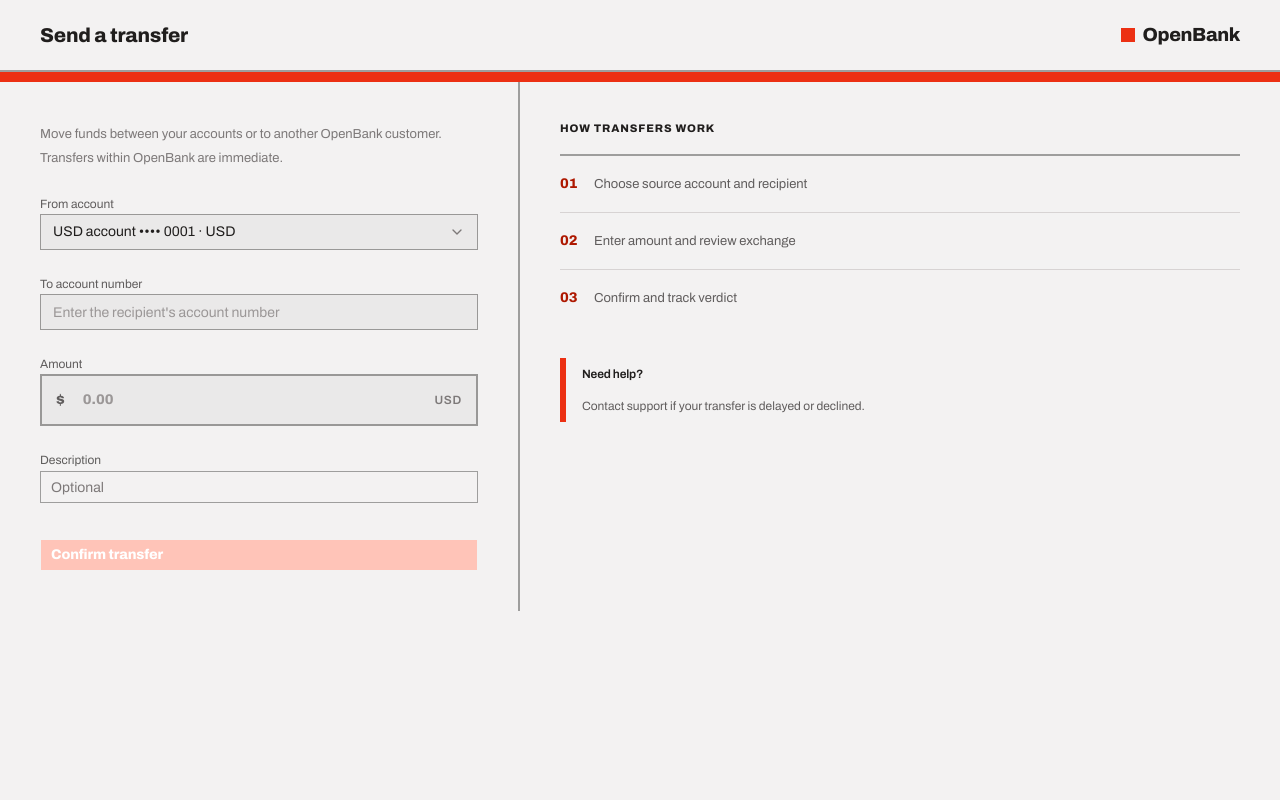
Test: TransferPageScreen workspace › Try again dismisses the error modal
Expected: the dropdown named "From account" is shown, [40,214,478,250]
In the field with placeholder "Enter the recipient's account number": (259, 312) [40,294,478,330], type "7723490011"
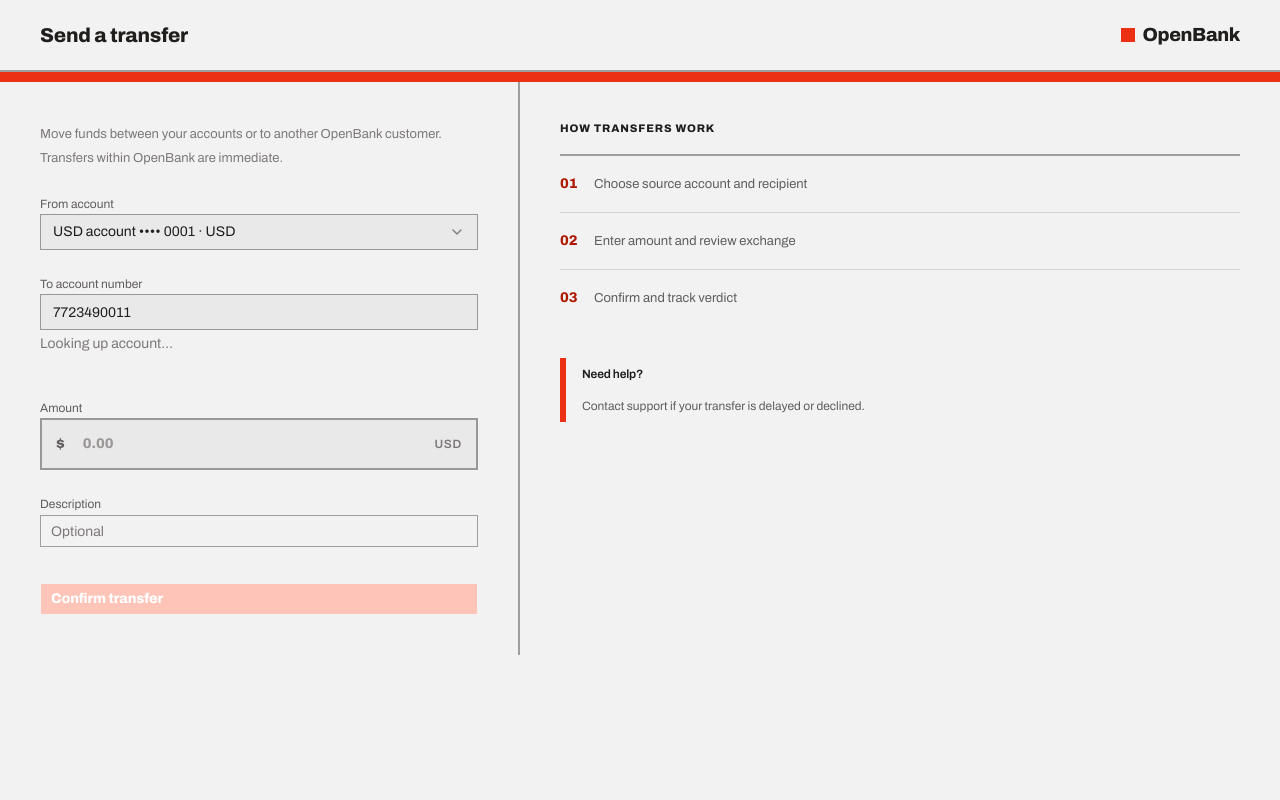
In the field with placeholder "0.00": (250, 444) [73,420,426,468], type "5.00"
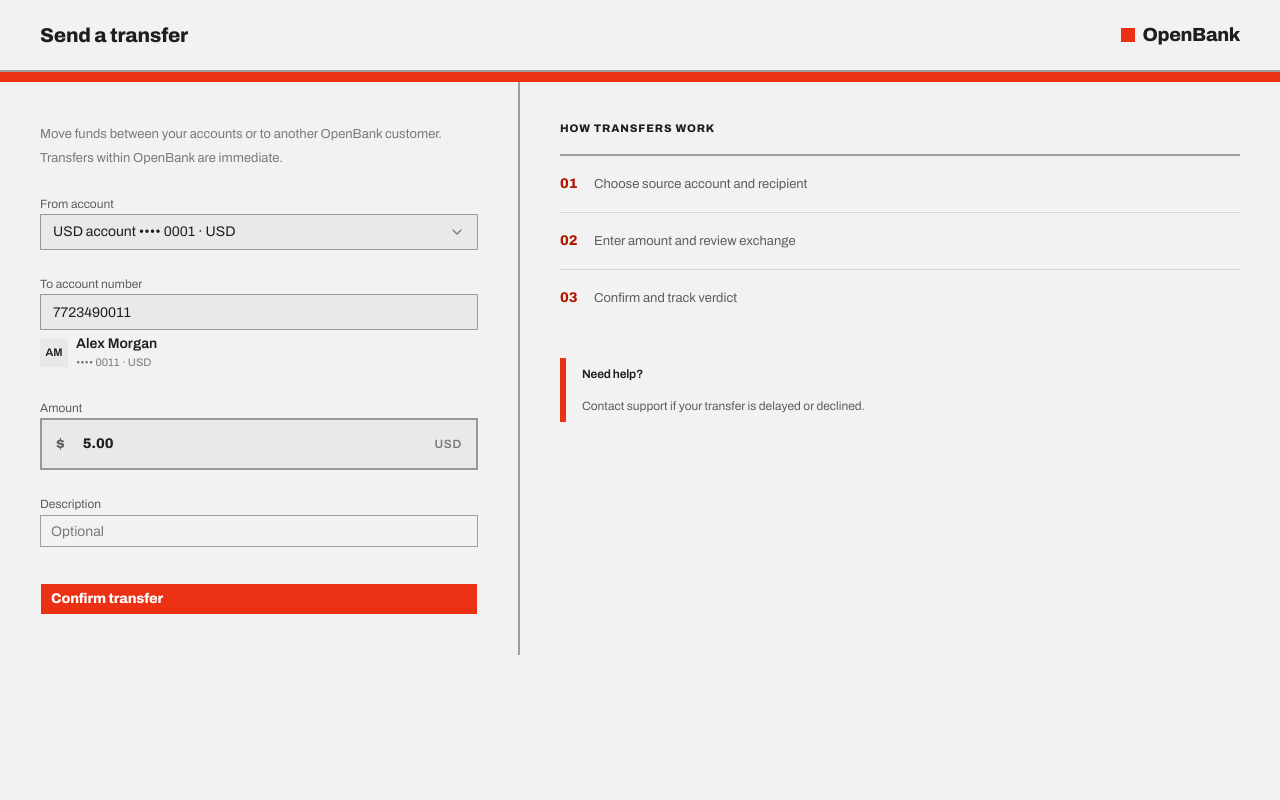
Expected: the text "Alex Morgan" is shown, [76,334,157,354]
Click the button "Confirm transfer": (107, 599) [40,583,478,615]
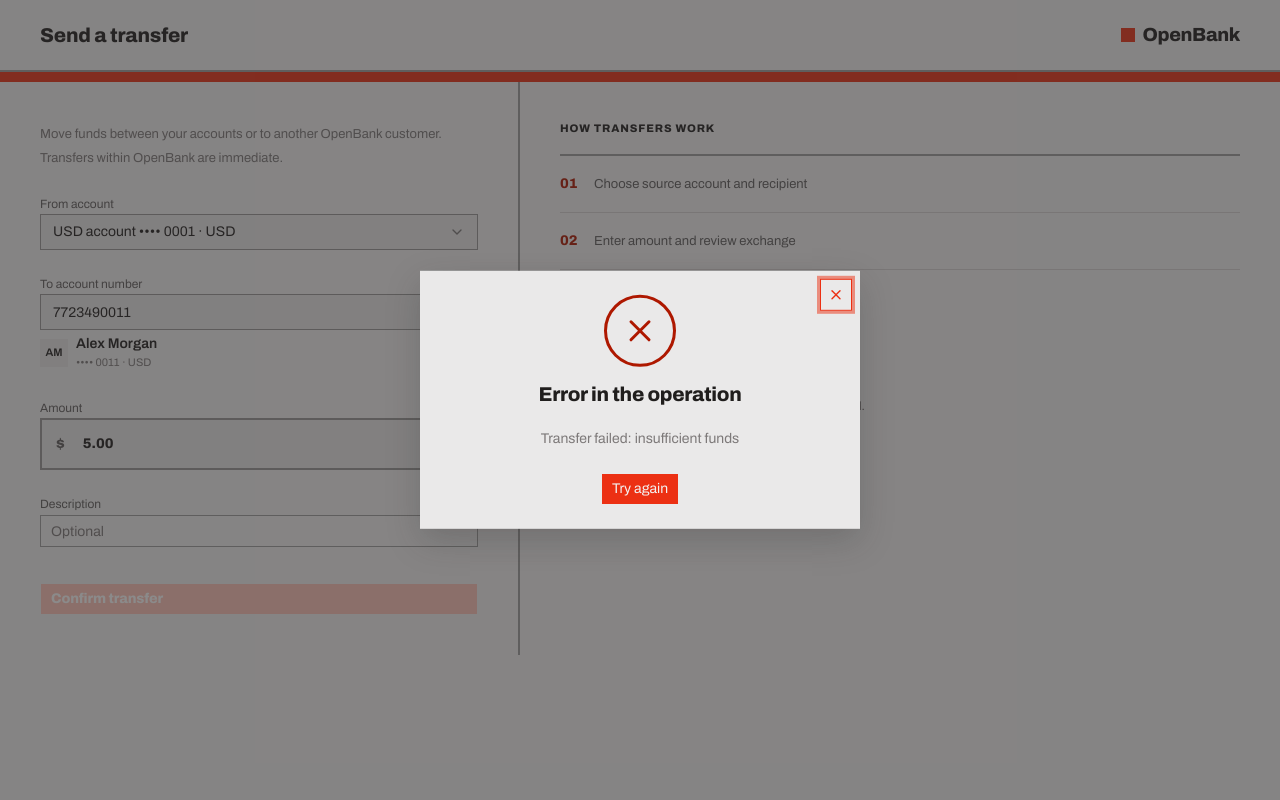
Expected: the heading "Error in the operation" is shown, [538,383,742,405]
Click the button "Try again": (640, 489) [601,473,679,505]
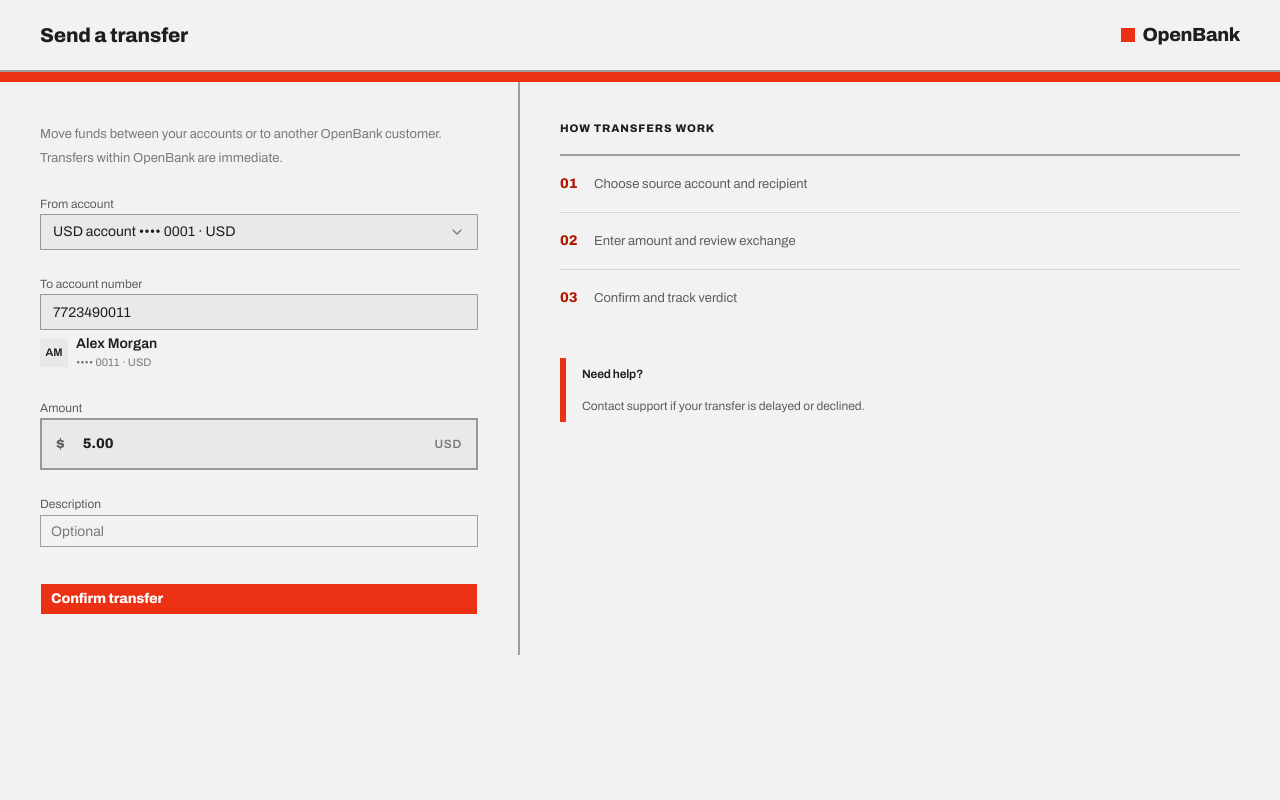
Expected: the heading "Error in the operation" is gone
